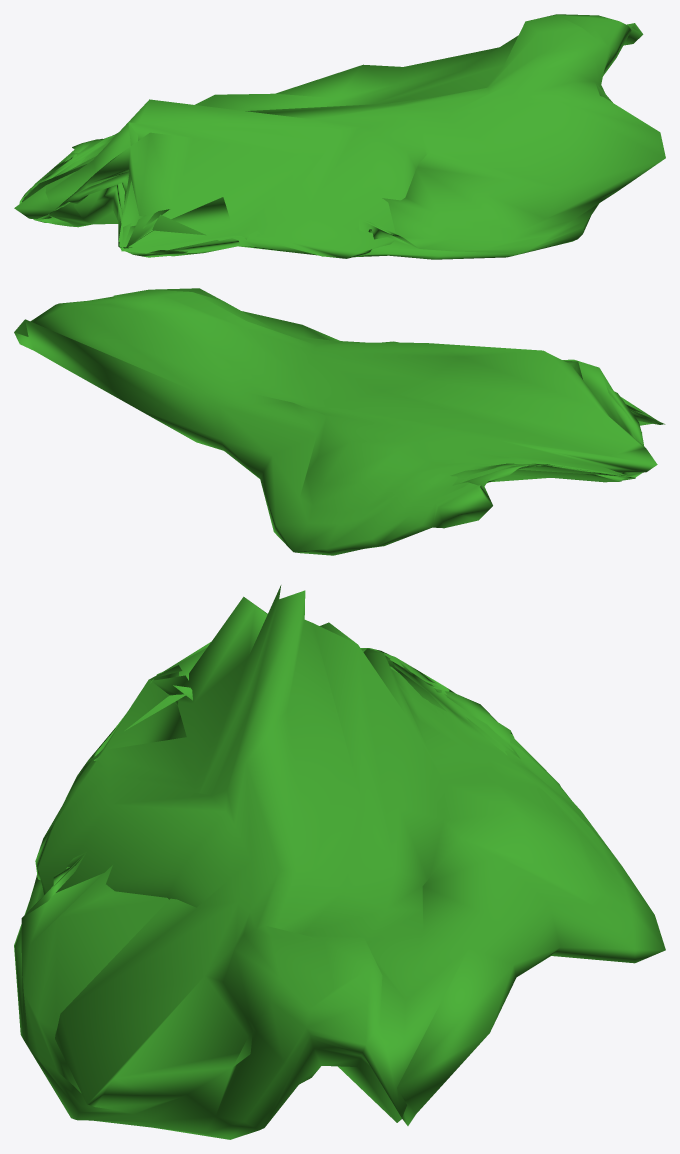
The model's file is moss.glb.
3 views of the same model, one above another, from view 1: azimuth 30°, elevation 25°; view 2: azimuth 150°, elevation 25°; view 3: azimuth 270°, elevation 25° (orthographic). The views are drawn at different scales.
Visible parts, largest first — view 1: moss; view 2: moss; view 3: moss.
Boxes of the visible parts, x1,y1,x2,y2 form: moss: (14, 14, 665, 259); moss: (14, 288, 665, 555); moss: (14, 585, 665, 1139).
Bounding box in the file's own units: 3.94 × 0.9836 × 2.21.
